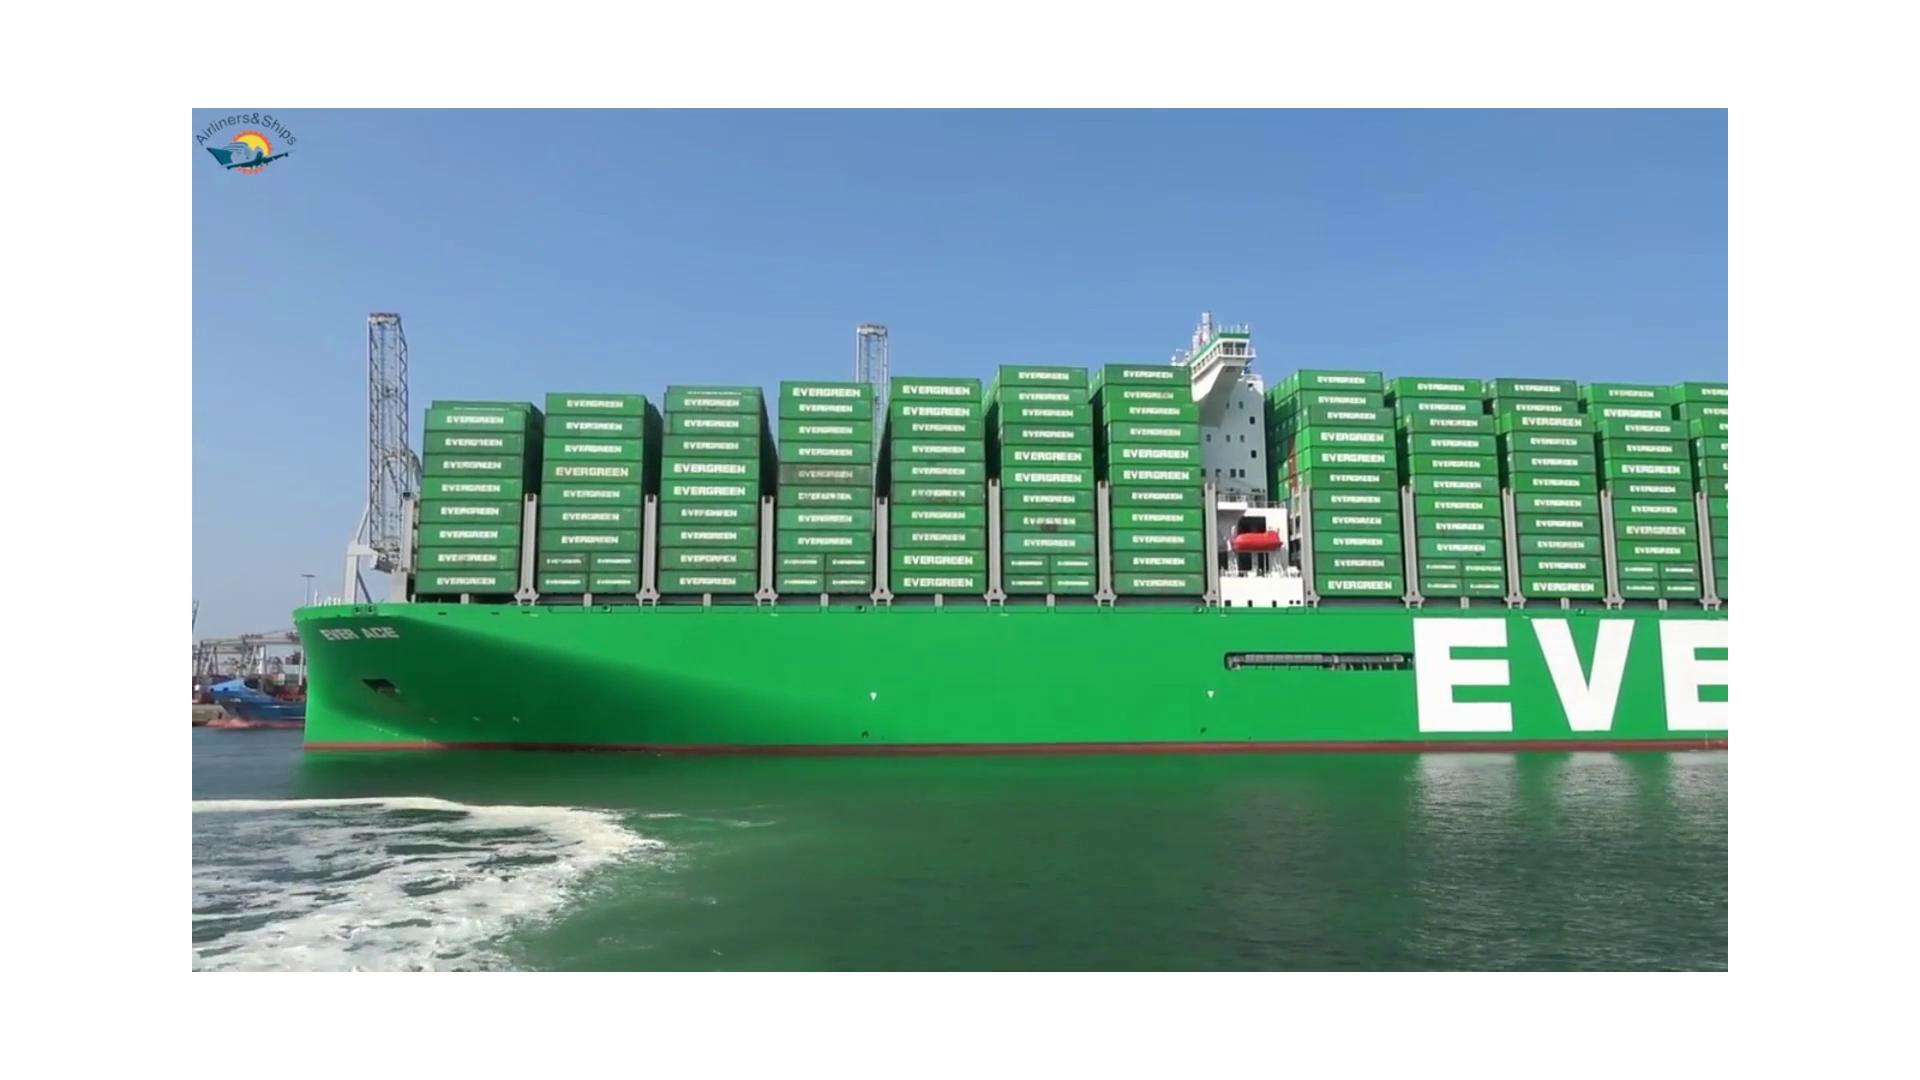OCR: (1400, 603, 1731, 764), (302, 613, 405, 650)
